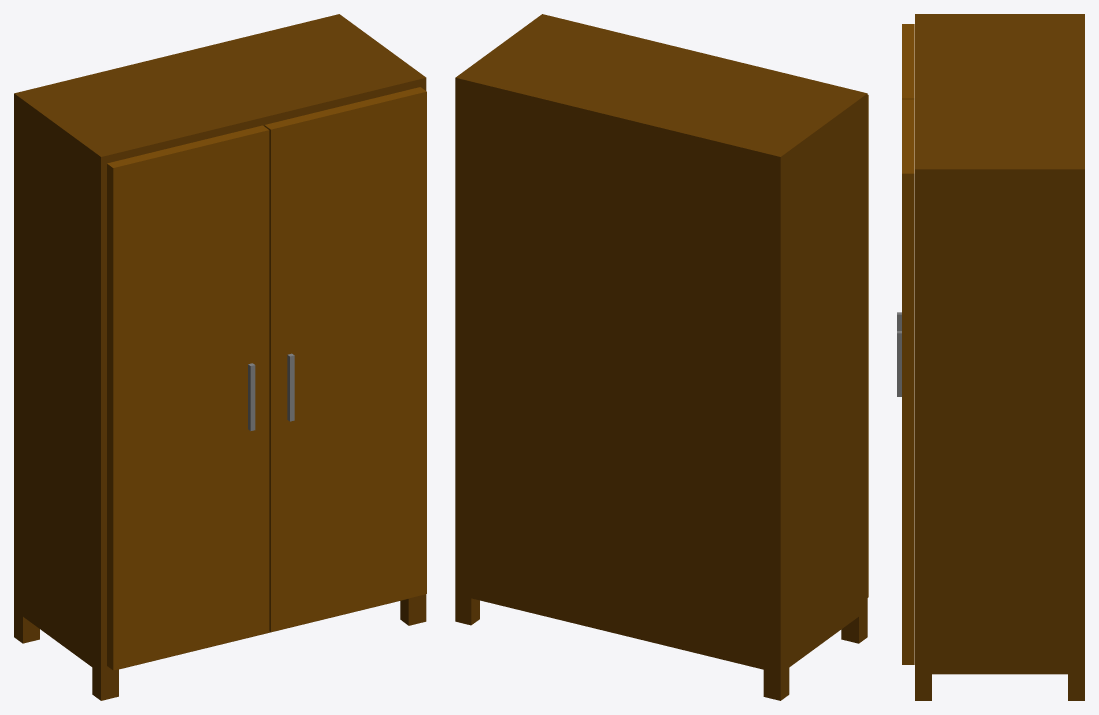
Rendered from Closet.obj.
The picture shows the model from 3 angles, left to right: view 1: azimuth 30°, elevation 25°; view 2: azimuth 150°, elevation 25°; view 3: azimuth 270°, elevation 25°; orthographic projection. The views are drawn at different scales.
Parts seen in each view (by area): view 1: Closet; view 2: Closet; view 3: Closet.
Part boxes in pixels (x1,y1,x2,y2): Closet: [14, 14, 426, 700]; Closet: [455, 14, 868, 700]; Closet: [897, 14, 1084, 700].
Bounding box in the file's own units: 169 × 271 × 86.71.
